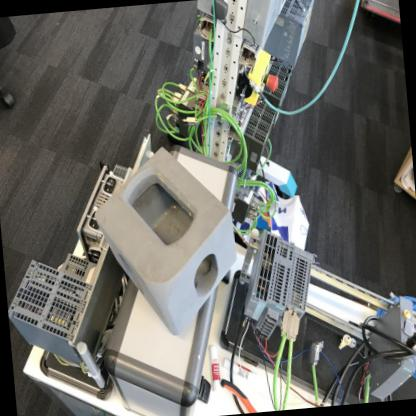CornerCasting: (86, 138, 245, 343)
